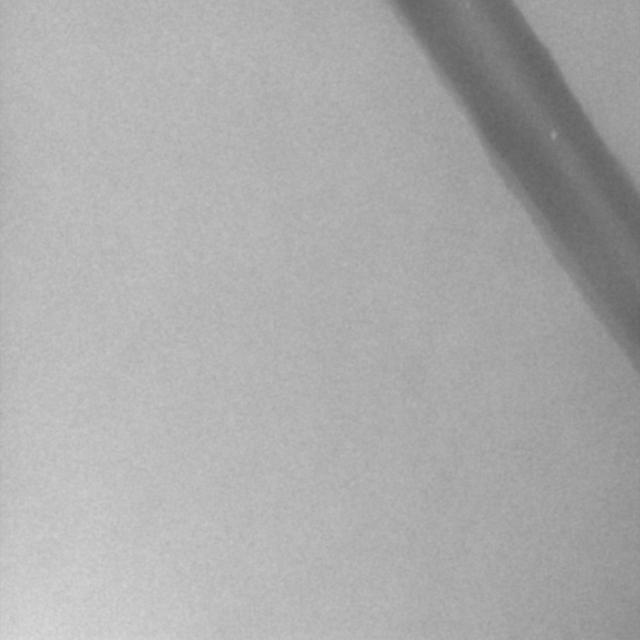air-hole: (550, 130, 559, 140)
